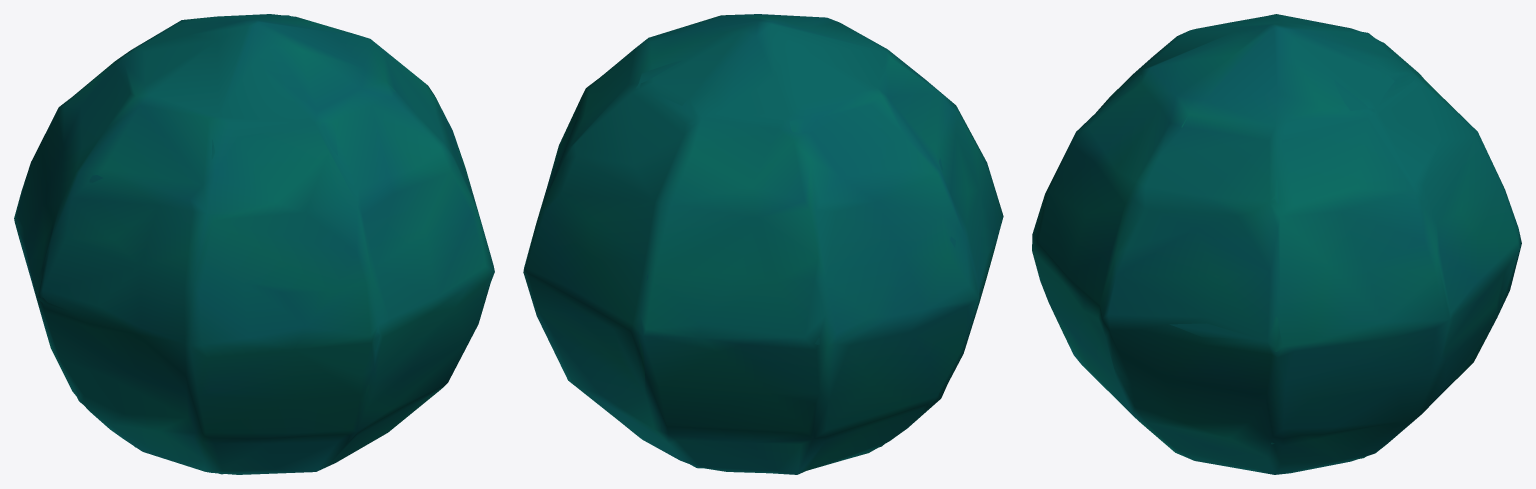
File: gen3d-orb-lod0.glb
3 renders of one model, left to right at view 1: azimuth 30°, elevation 25°; view 2: azimuth 150°, elevation 25°; view 3: azimuth 270°, elevation 25°, orthographic.
Parts seen in each view (by area): view 1: part_0; view 2: part_0; view 3: part_0.
Boxes of the visible parts, x1,y1,x2,y2 form: part_0: [14, 14, 494, 474]; part_0: [523, 14, 1003, 474]; part_0: [1032, 14, 1521, 474].
Size of the model in its own units: 1.01 by 0.9916 by 1.01.
